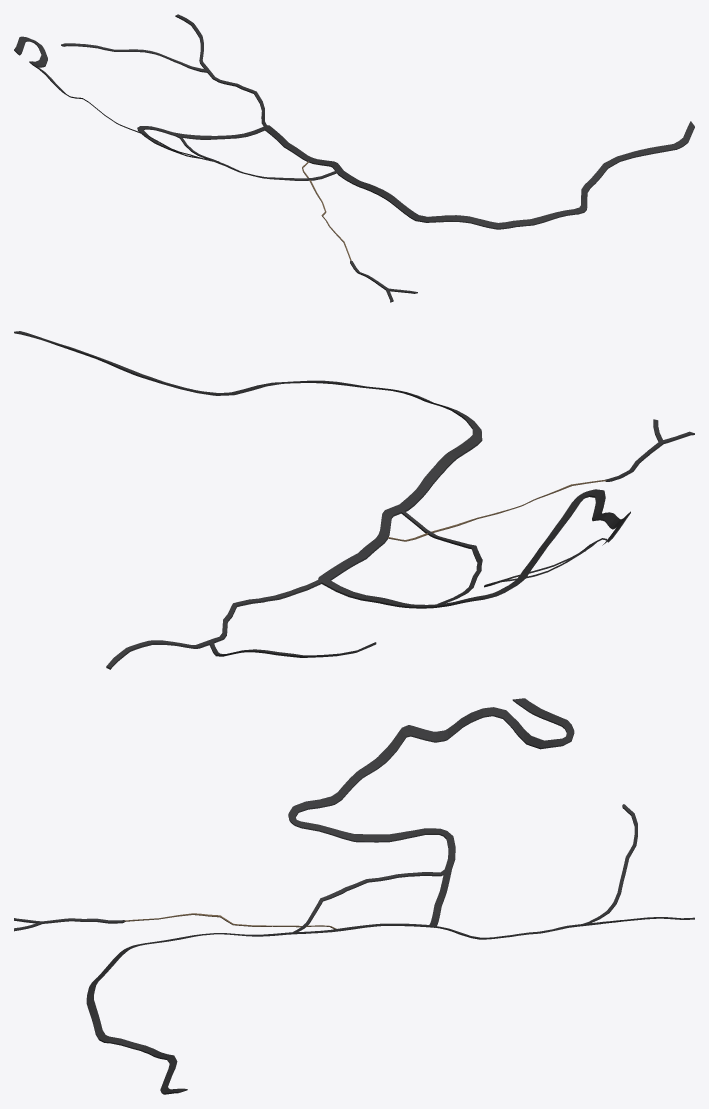
The picture shows the model from 3 angles, top to bottom: view 1: azimuth 30°, elevation 25°; view 2: azimuth 150°, elevation 25°; view 3: azimuth 270°, elevation 25°; orthographic projection. The views are drawn at different scales.
Bounding box in the file's own units: 587 × 131 × 583.
